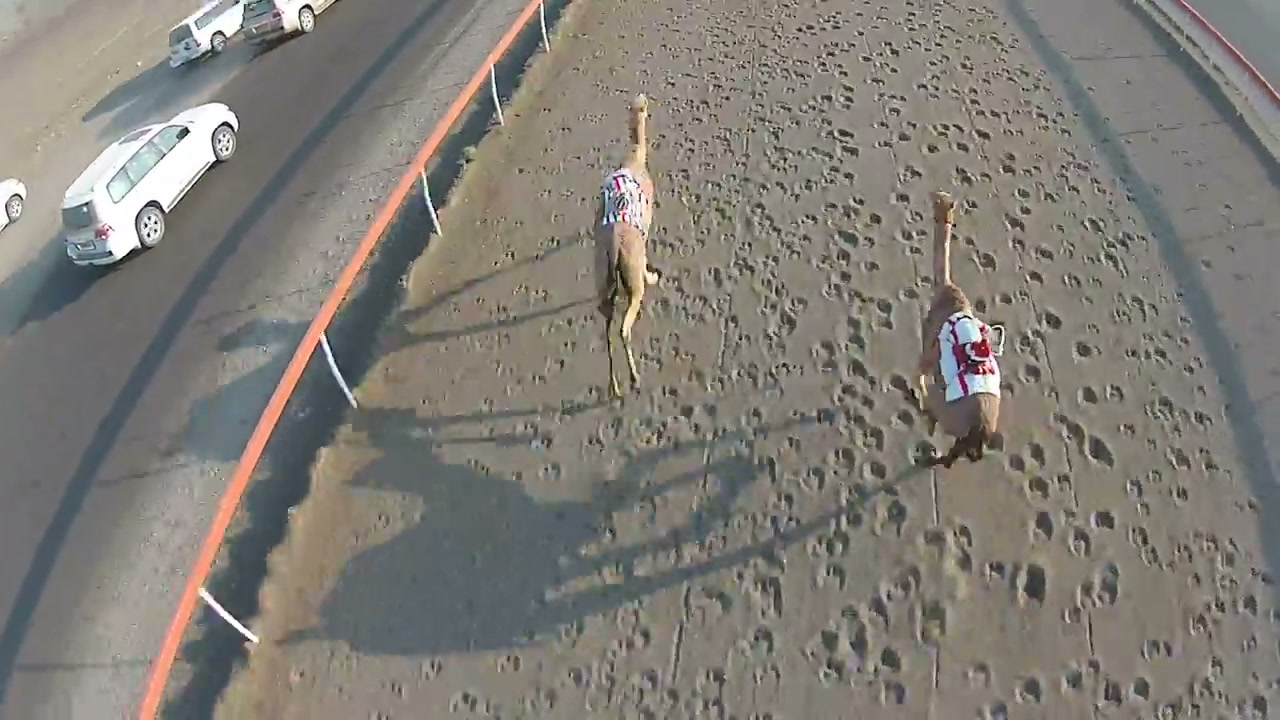animal_footprint: (580, 22, 742, 702), (760, 24, 915, 719)
